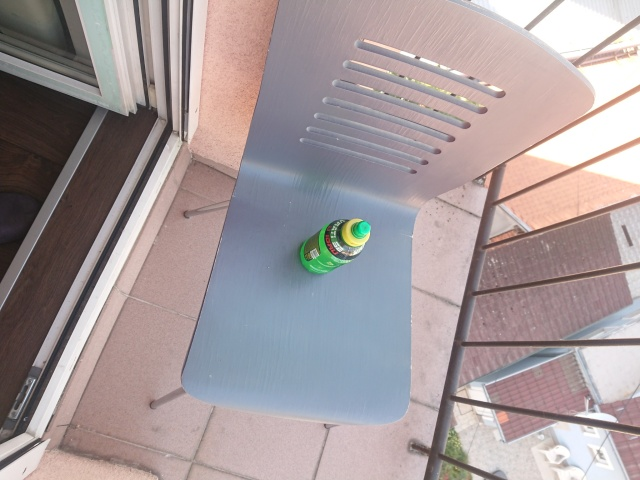Vindi Iso Sport Lemon-Grapefruit 500mL: (297, 216, 373, 278)
